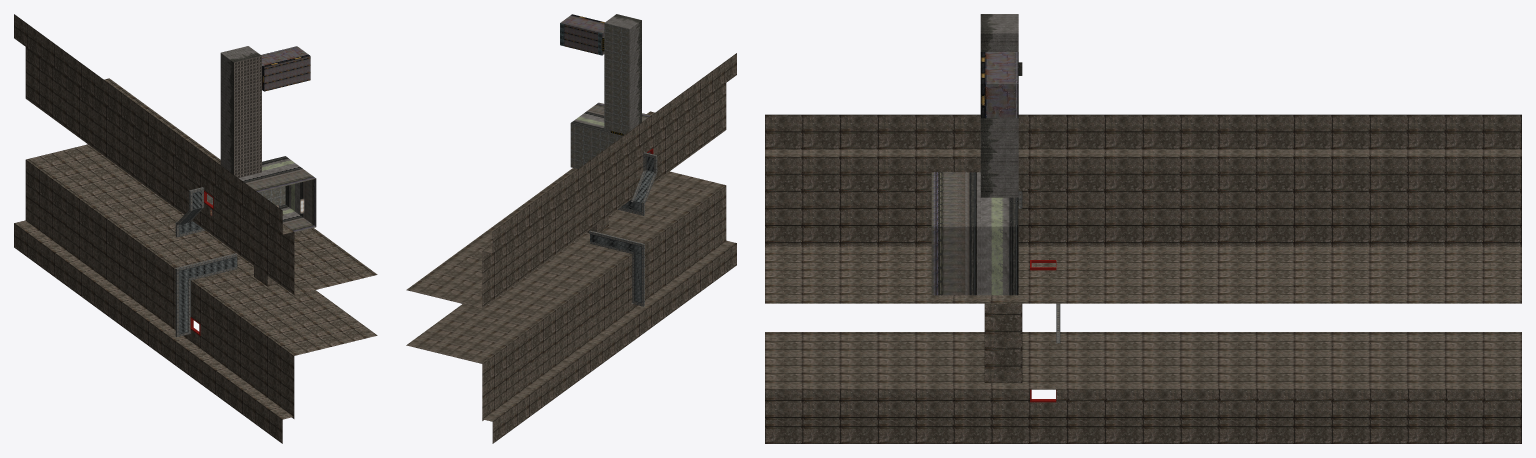
File: testmap.glb
3 views of the same model, side by side, from view 1: azimuth 30°, elevation 25°; view 2: azimuth 150°, elevation 25°; view 3: azimuth 270°, elevation 25° (orthographic). The views are drawn at different scales.
Visible parts, largest first — view 1: map; view 2: map; view 3: map.
Boxes of the visible parts, bbox=[...] form: map: bbox=[14, 14, 377, 443]; map: bbox=[406, 14, 736, 443]; map: bbox=[765, 14, 1521, 443].
Size of the model in its own units: 46 by 131 by 200.
17 materials, 17 textured.
